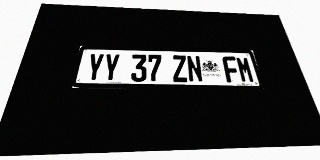3: (131, 54, 147, 82)
7: (147, 55, 162, 82)
F: (222, 56, 241, 82)
M: (235, 57, 255, 83)
N: (186, 55, 203, 82)
Y: (85, 53, 105, 82), (102, 54, 120, 82)
Z: (172, 55, 188, 82)
